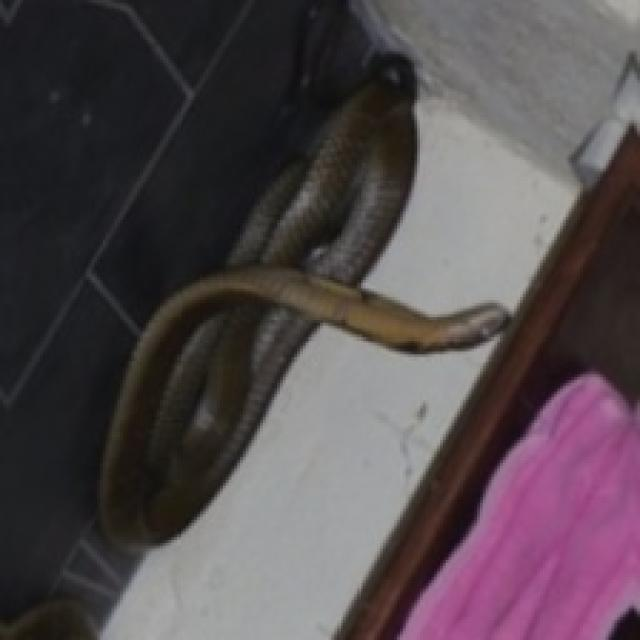king cobra: (97, 57, 506, 546)
